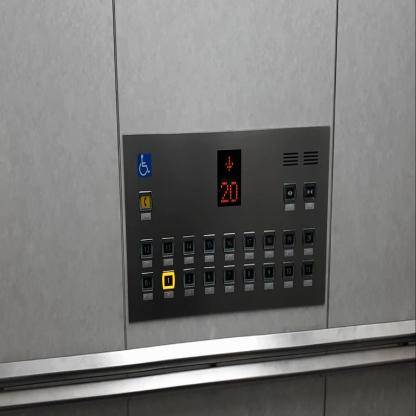1: (162, 269, 175, 289)
10: (281, 259, 295, 280)
11: (300, 258, 314, 279)
12: (139, 237, 154, 260)
13: (160, 236, 174, 258)
14: (182, 235, 195, 256)
15: (202, 233, 216, 253)
16: (222, 231, 235, 252)
17: (242, 230, 256, 250)
18: (262, 228, 276, 250)
19: (282, 226, 296, 249)
2: (182, 267, 196, 288)
20: (301, 225, 316, 248)
6: (202, 265, 216, 286)
7: (222, 264, 236, 284)
8: (242, 263, 255, 284)
9: (262, 261, 275, 282)
B1: (140, 271, 154, 292)
CH: (136, 151, 152, 178)
call: (138, 188, 154, 212)
close: (302, 180, 317, 202)
led: (216, 148, 242, 207)
open: (282, 180, 298, 204)
